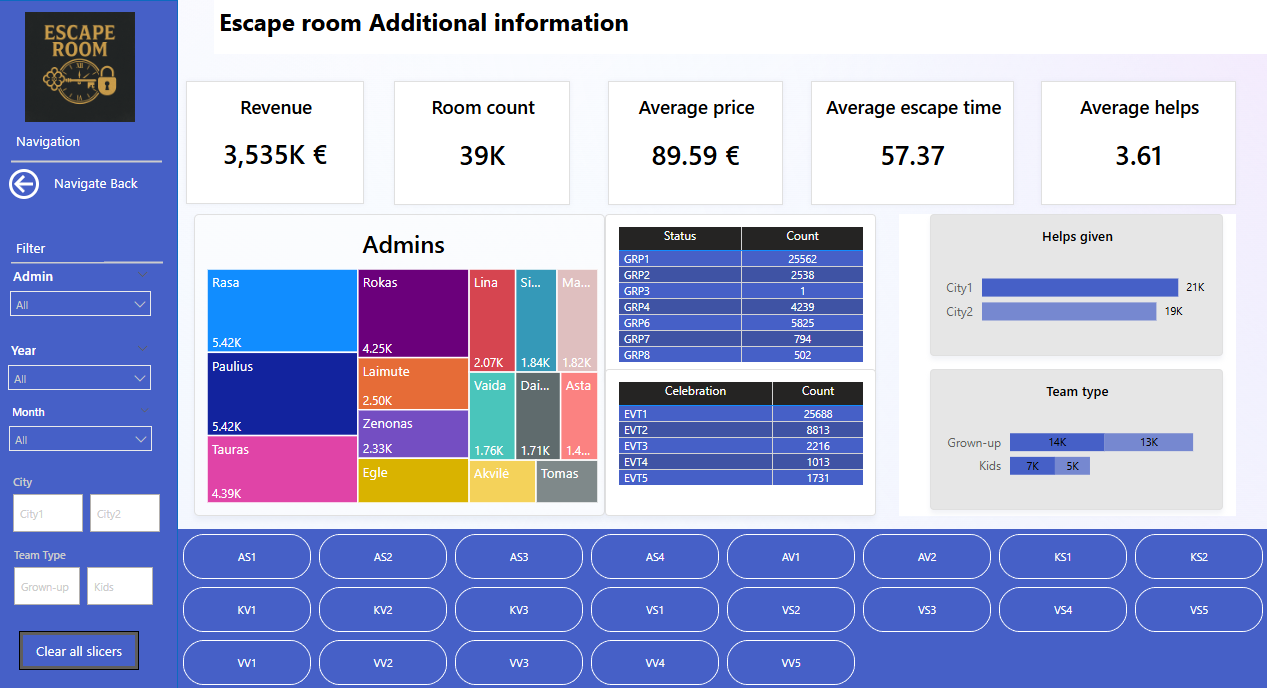

The page's visual inventory and layout, read from the dashboard file:
{"tool":"powerbi","page":{"name":"Administrator Info","canvas":[1280,720],"ordinal":3},"visuals":[{"type":"textbox","box":[224.4,9,1055.6,54.1],"z":0},{"type":"treemap","title":"Admins","fields":{"Values":["full_data.Count_Kambarys"],"Group":["full_data.Admin"]},"box":[203.8,222.5,411.2,302.5],"z":1000},{"type":"shape","box":[908.8,222.5,337.5,302.5],"z":2000},{"type":"advancedSlicerVisual","fields":{"Values":["full_data.Room type"]},"box":[187.5,537.5,1092.5,163.8],"z":3000},{"type":"barChart","title":"Team type","fields":{"Category":["full_data.TeamType"],"Y":["full_data.Count_Kambarys"],"Series":["full_data.City"]},"box":[940,377.5,292.5,141.2],"z":4000},{"type":"tableEx","fields":{"Values":["full_data.Status","full_data.Count_Kambarys"]},"box":[615,222.5,271.2,163.8],"z":5000},{"type":"tableEx","fields":{"Values":["full_data.Celebration","full_data.Count_Kambarys"]},"box":[615,377.5,271.2,147.5],"z":6000},{"type":"barChart","title":"Helps given","fields":{"Y":["full_data.Count_Kambarys"],"Category":["full_data.City"]},"box":[940,222.5,292.5,142.5],"z":7000},{"type":"shape","box":[5,8.8,182.5,692.5],"z":8000},{"type":"shape","box":[21.3,156.8,151.1,27.1],"z":9000},{"type":"shape","box":[21.2,248.8,151.2,45],"z":10000},{"type":"textbox","box":[21.2,242.5,92.5,28.8],"z":11000},{"type":"textbox","box":[21.3,136.5,92.5,29.3],"z":12000},{"type":"slicer","fields":{"Values":["full_data.Data.Variation.Date Hierarchy.Year"]},"box":[13.4,349.6,152.2,56.4],"z":13000},{"type":"slicer","fields":{"Values":["full_data.Data.Variation.Date Hierarchy.Month"]},"box":[14.5,412.8,152.2,56.4],"z":14000},{"type":"advancedSlicerVisual","title":"City","fields":{"Values":["full_data.City"]},"box":[17.9,482.7,156.8,63.2],"z":15000},{"type":"advancedSlicerVisual","title":"Team Type","fields":{"Values":["full_data.TeamType"]},"box":[19,556,150,63.2],"z":16000},{"type":"actionButton","box":[13.9,172.8,46.6,40.3],"z":17000},{"type":"textbox","box":[58.7,178.2,120.9,28.7],"z":18000},{"type":"actionButton","box":[29.1,640.3,120,38.5],"z":19000},{"type":"image","box":[27.5,16.2,123.8,120],"z":20000},{"type":"card","title":"Room count","fields":{"Values":["full_data.Count_Kambarys"]},"box":[403.8,90,176.2,123.8],"z":21000},{"type":"card","title":"Average escape time","fields":{"Values":["Avg(full_data.Escape Time)"]},"box":[821.2,90,202.5,123.8],"z":22000},{"type":"card","title":"Average helps","fields":{"Values":["Avg(full_data.Helps)"]},"box":[1051.2,90,195,123.8],"z":23000},{"type":"slicer","fields":{"Values":["full_data.Admin"]},"box":[15,276.2,151.2,56.2],"z":24000},{"type":"card","title":"Revenue","fields":{"Values":["Sum(full_data.Revenue)"]},"box":[196.2,90,177.5,122.5],"z":25000},{"type":"card","title":"Average price","fields":{"Values":["full_data.Average Price"]},"box":[617.5,90,175,123.8],"z":26000}]}

Visuals, with their boxes on the page's 1280x720 design canvas (x1, y1, x2, y2). These are canvas units, not pixel positions in the 1267x688 screenshot, which may show the page scaled, cropped or inside an application window:
textbox: <bbox>224, 9, 1280, 63</bbox>
"Admins" treemap: <bbox>204, 222, 615, 525</bbox>
shape: <bbox>909, 222, 1246, 525</bbox>
advancedSlicerVisual - full_data.Room type: <bbox>188, 538, 1280, 701</bbox>
"Team type" barChart: <bbox>940, 378, 1232, 519</bbox>
tableEx - full_data.Status x full_data.Count_Kambarys: <bbox>615, 222, 886, 386</bbox>
tableEx - full_data.Celebration x full_data.Count_Kambarys: <bbox>615, 378, 886, 525</bbox>
"Helps given" barChart: <bbox>940, 222, 1232, 365</bbox>
shape: <bbox>5, 9, 188, 701</bbox>
shape: <bbox>21, 157, 172, 184</bbox>
shape: <bbox>21, 249, 172, 294</bbox>
textbox: <bbox>21, 242, 114, 271</bbox>
textbox: <bbox>21, 136, 114, 166</bbox>
slicer - full_data.Data.Variation.Date Hierarchy.Year: <bbox>13, 350, 166, 406</bbox>
slicer - full_data.Data.Variation.Date Hierarchy.Month: <bbox>14, 413, 167, 469</bbox>
"City" advancedSlicerVisual: <bbox>18, 483, 175, 546</bbox>
"Team Type" advancedSlicerVisual: <bbox>19, 556, 169, 619</bbox>
actionButton: <bbox>14, 173, 60, 213</bbox>
textbox: <bbox>59, 178, 180, 207</bbox>
actionButton: <bbox>29, 640, 149, 679</bbox>
image: <bbox>28, 16, 151, 136</bbox>
"Room count" card: <bbox>404, 90, 580, 214</bbox>
"Average escape time" card: <bbox>821, 90, 1024, 214</bbox>
"Average helps" card: <bbox>1051, 90, 1246, 214</bbox>
slicer - full_data.Admin: <bbox>15, 276, 166, 332</bbox>
"Revenue" card: <bbox>196, 90, 374, 212</bbox>
"Average price" card: <bbox>618, 90, 792, 214</bbox>
